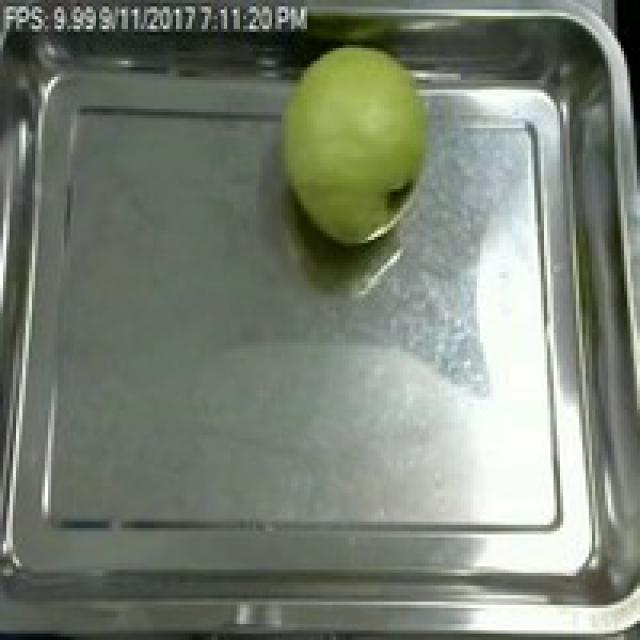Fruit: (259, 35, 445, 256)
